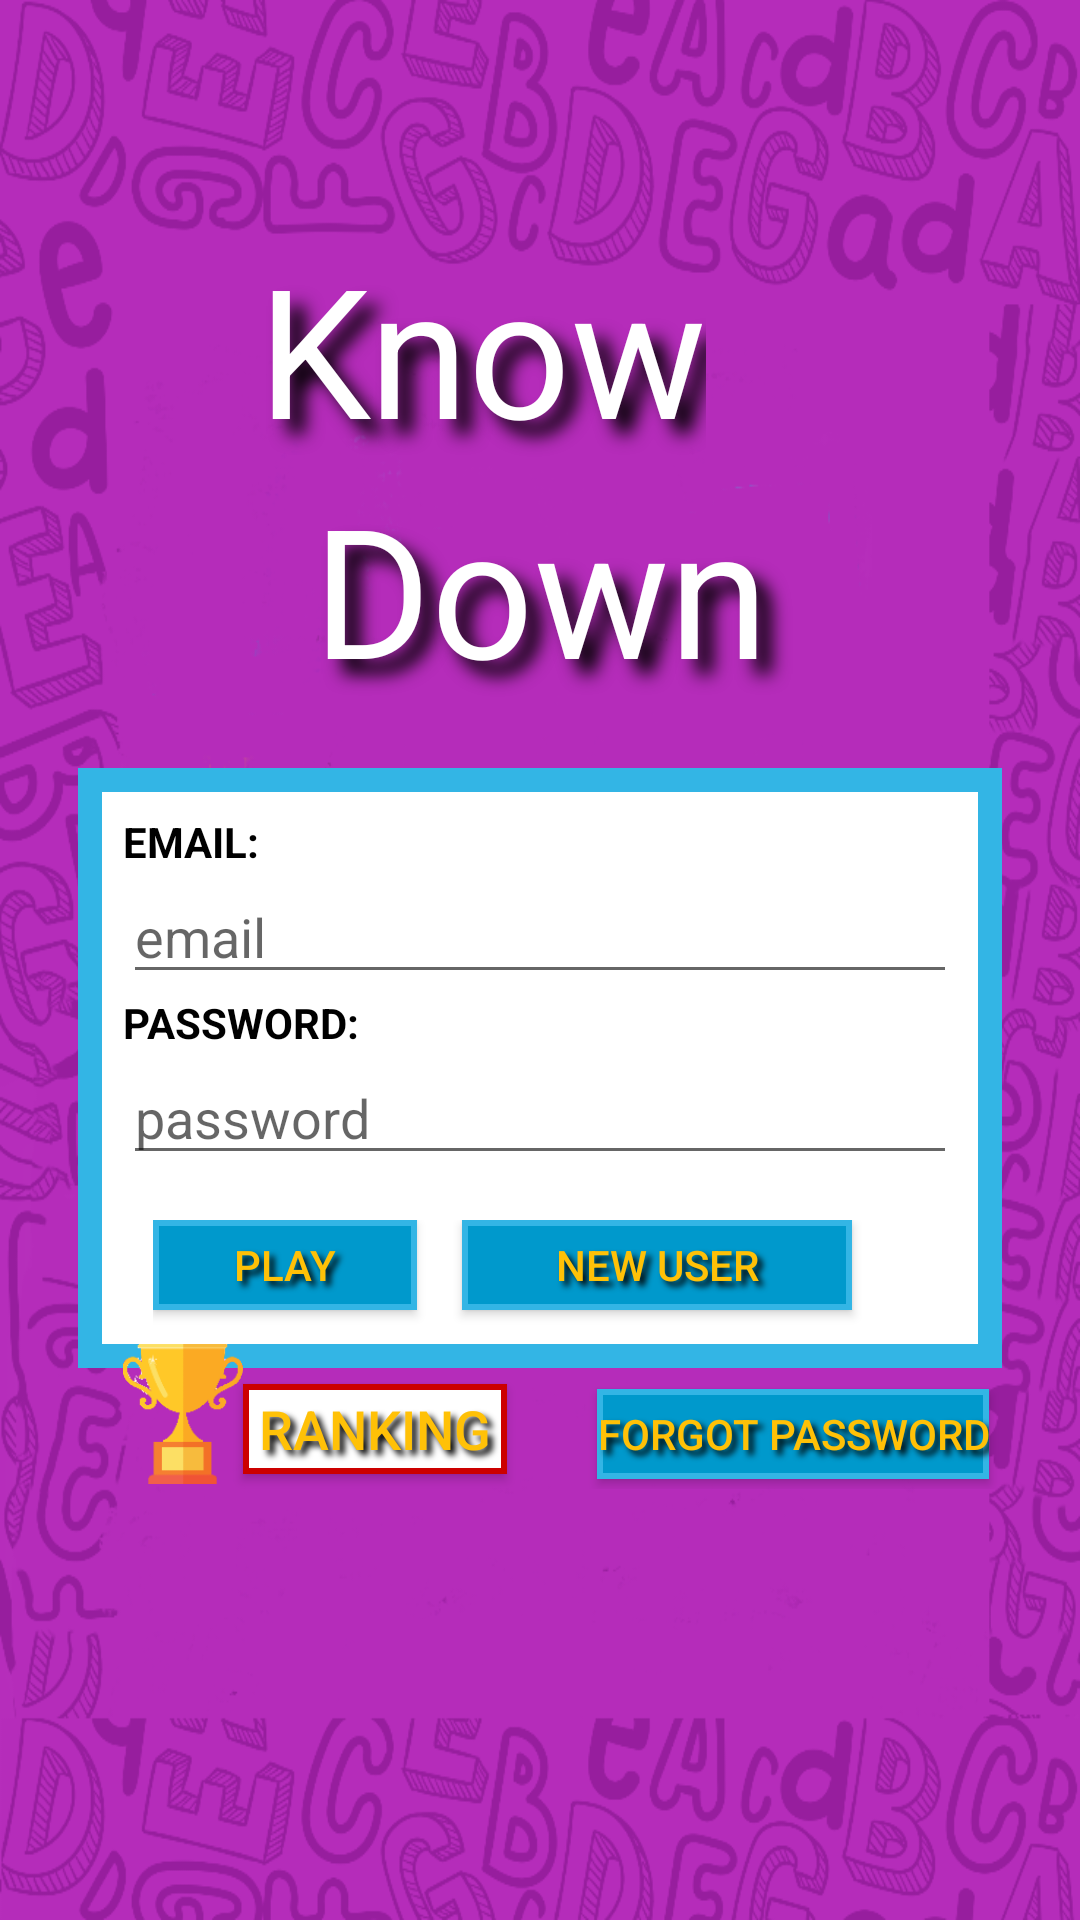

Point at icon controls on the screen. Image size 1080×1920, points as point (x, y).
trophy image: point (183, 1414)
